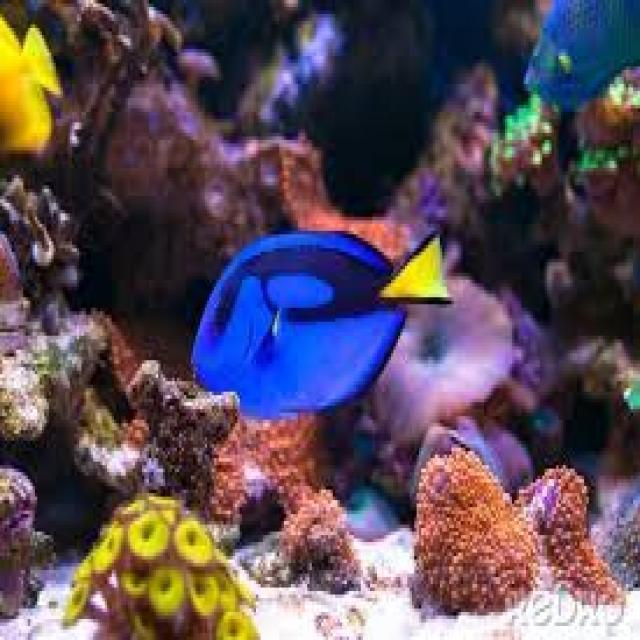TangFish: (188, 223, 457, 419)
